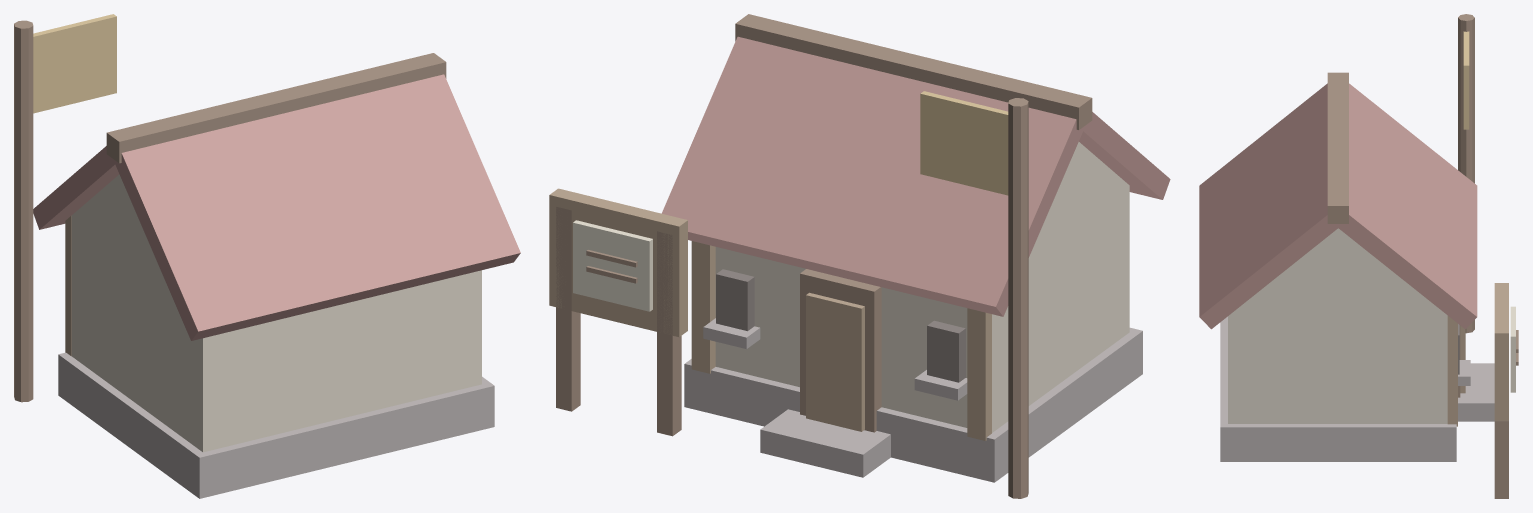
File: bld_recruit.glb
3 views of the same model, side by side, from view 1: azimuth 30°, elevation 25°; view 2: azimuth 150°, elevation 25°; view 3: azimuth 270°, elevation 25° (orthographic). The views are drawn at different scales.
Visible parts, largest first — view 1: bld_recruit_935C57, bld_recruit_DDCFB6, bld_recruit_948989, bld_recruit_705443, bld_recruit_CBA263, bld_recruit_917154; view 2: bld_recruit_935C57, bld_recruit_DDCFB6, bld_recruit_705443, bld_recruit_948989, bld_recruit_917154, bld_recruit_CBA263, bld_recruit_E6D9BC, bld_recruit_514744; view 3: bld_recruit_935C57, bld_recruit_DDCFB6, bld_recruit_948989, bld_recruit_705443, bld_recruit_917154, bld_recruit_CBA263, bld_recruit_E6D9BC.
Boxes of the visible parts, bbox=[...] form: bld_recruit_935C57: bbox=[33, 74, 520, 340]; bld_recruit_DDCFB6: bbox=[71, 174, 481, 452]; bld_recruit_948989: bbox=[58, 352, 494, 498]; bld_recruit_705443: bbox=[14, 20, 446, 402]; bld_recruit_CBA263: bbox=[33, 14, 116, 113]; bld_recruit_917154: bbox=[65, 215, 71, 356]; bld_recruit_935C57: bbox=[661, 36, 1170, 316]; bld_recruit_DDCFB6: bbox=[715, 142, 1129, 432]; bld_recruit_705443: bbox=[556, 14, 1092, 498]; bld_recruit_948989: bbox=[684, 318, 1142, 482]; bld_recruit_917154: bbox=[549, 188, 991, 440]; bld_recruit_CBA263: bbox=[920, 91, 1008, 195]; bld_recruit_E6D9BC: bbox=[573, 220, 652, 311]; bld_recruit_514744: bbox=[716, 269, 965, 382]; bld_recruit_935C57: bbox=[1199, 83, 1477, 329]; bld_recruit_DDCFB6: bbox=[1228, 228, 1447, 423]; bld_recruit_948989: bbox=[1220, 316, 1494, 461]; bld_recruit_705443: bbox=[1327, 14, 1518, 498]; bld_recruit_917154: bbox=[1447, 283, 1508, 426]; bld_recruit_CBA263: bbox=[1463, 31, 1469, 129]; bld_recruit_E6D9BC: bbox=[1510, 306, 1515, 392].
Size of the model in its own units: 0.939 by 0.78 by 0.7225.
